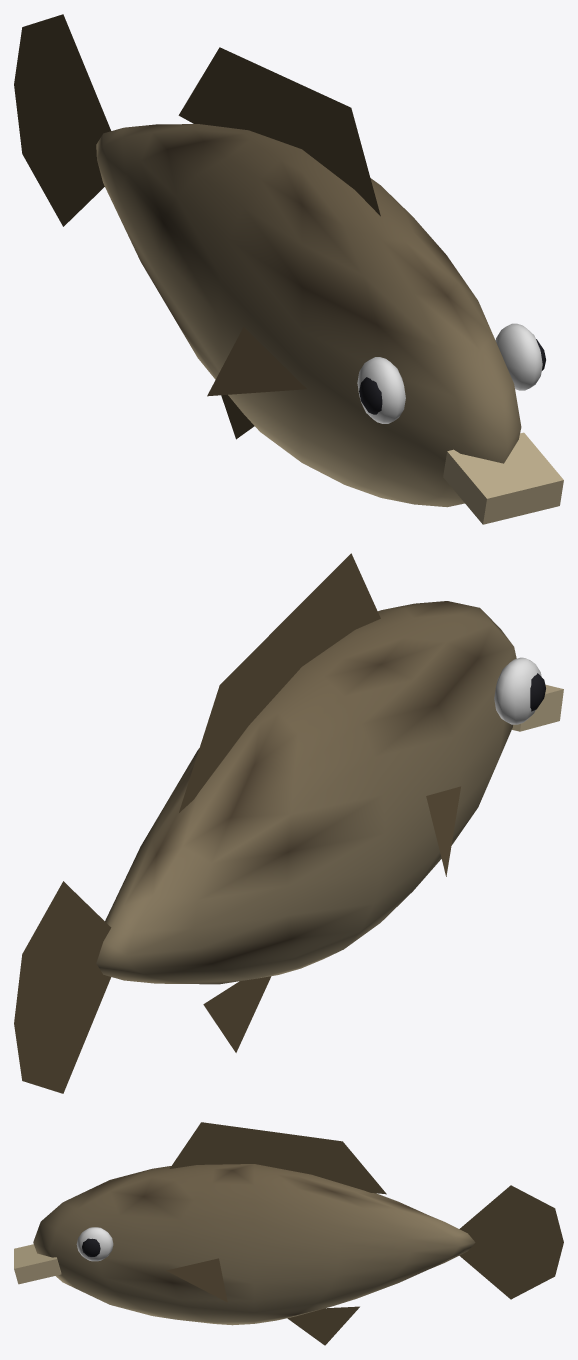
File: zackenbarsch.glb
The picture shows the model from 3 angles, top to bottom: view 1: azimuth 30°, elevation 25°; view 2: azimuth 150°, elevation 25°; view 3: azimuth 270°, elevation 25°; orthographic projection. The views are drawn at different scales.
Visible parts, largest first — view 1: zackenbarsch; view 2: zackenbarsch; view 3: zackenbarsch.
Part boxes in pixels (x1,y1,x2,y2): zackenbarsch: (14,14,563,524); zackenbarsch: (14,553,563,1093); zackenbarsch: (14,1122,563,1345).
Bounding box in the file's own units: 0.336 × 0.558 × 1.24.
